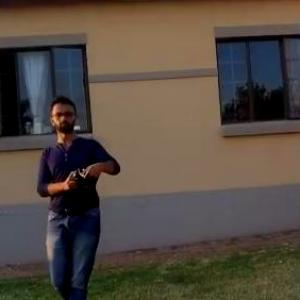follow: (30, 85, 125, 299)
